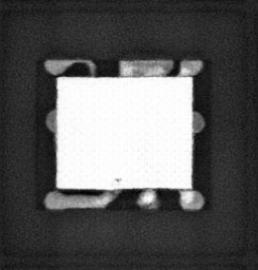DIE_INK: (112, 175, 124, 183)
